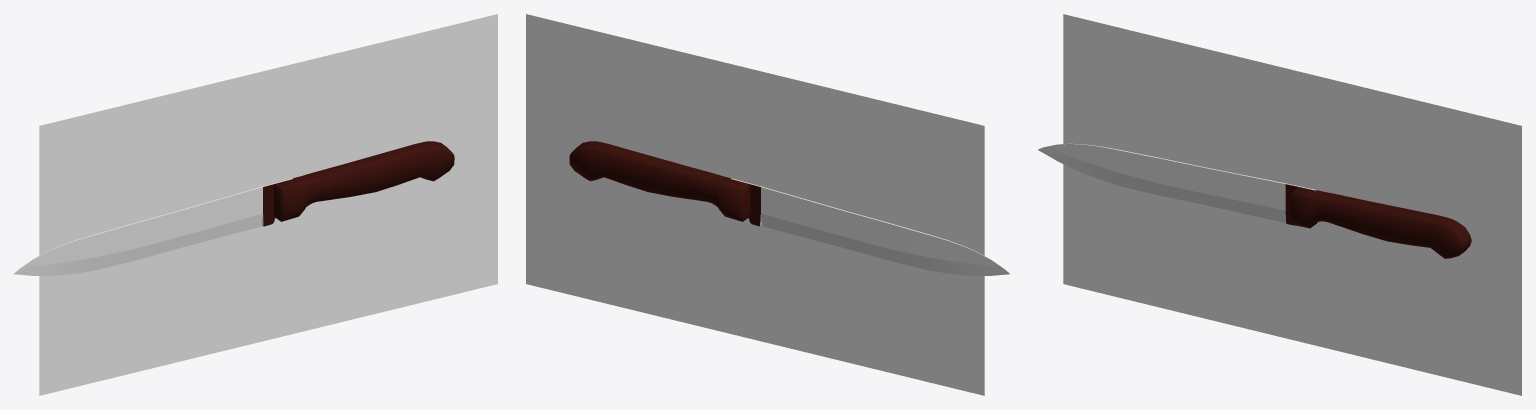
Rendered from faca.obj.
The picture shows the model from 3 angles, left to right: view 1: azimuth 30°, elevation 25°; view 2: azimuth 150°, elevation 25°; view 3: azimuth 330°, elevation 25°; orthographic projection.
Visible parts, largest first — view 1: Plane001, Knife007, CABO007; view 2: Plane001, Knife007, CABO007; view 3: Plane001, Knife007, CABO007.
Boxes of the visible parts, left/top/right/bottom form: Plane001: left=39, top=14, right=497, bottom=395; Knife007: left=14, top=178, right=292, bottom=276; CABO007: left=263, top=141, right=454, bottom=226; Plane001: left=526, top=14, right=984, bottom=395; Knife007: left=731, top=178, right=1009, bottom=275; CABO007: left=569, top=141, right=760, bottom=226; Plane001: left=1063, top=14, right=1521, bottom=395; Knife007: left=1038, top=143, right=1316, bottom=222; CABO007: left=1285, top=184, right=1471, bottom=258.
Bounding box in the file's own units: 221 × 118 × 13.16.
3 materials, 1 textured.
